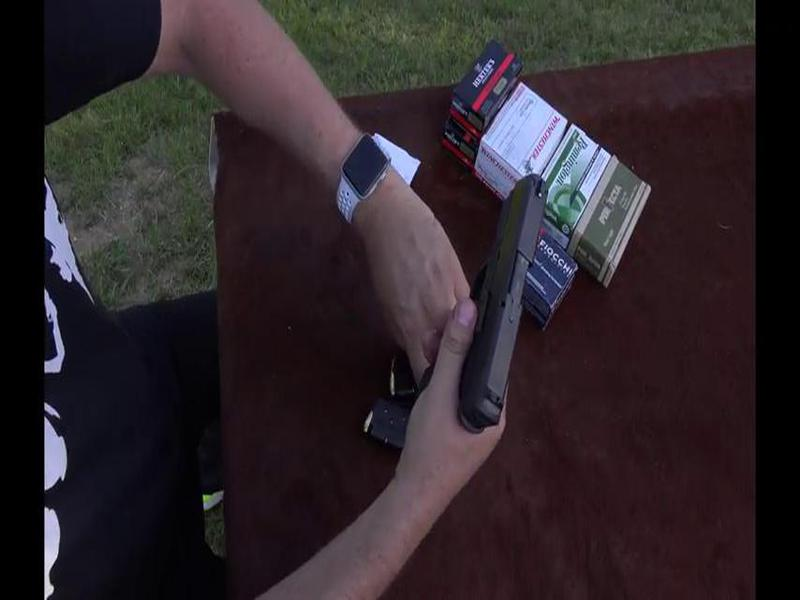Pistola: (466, 168, 543, 434)
